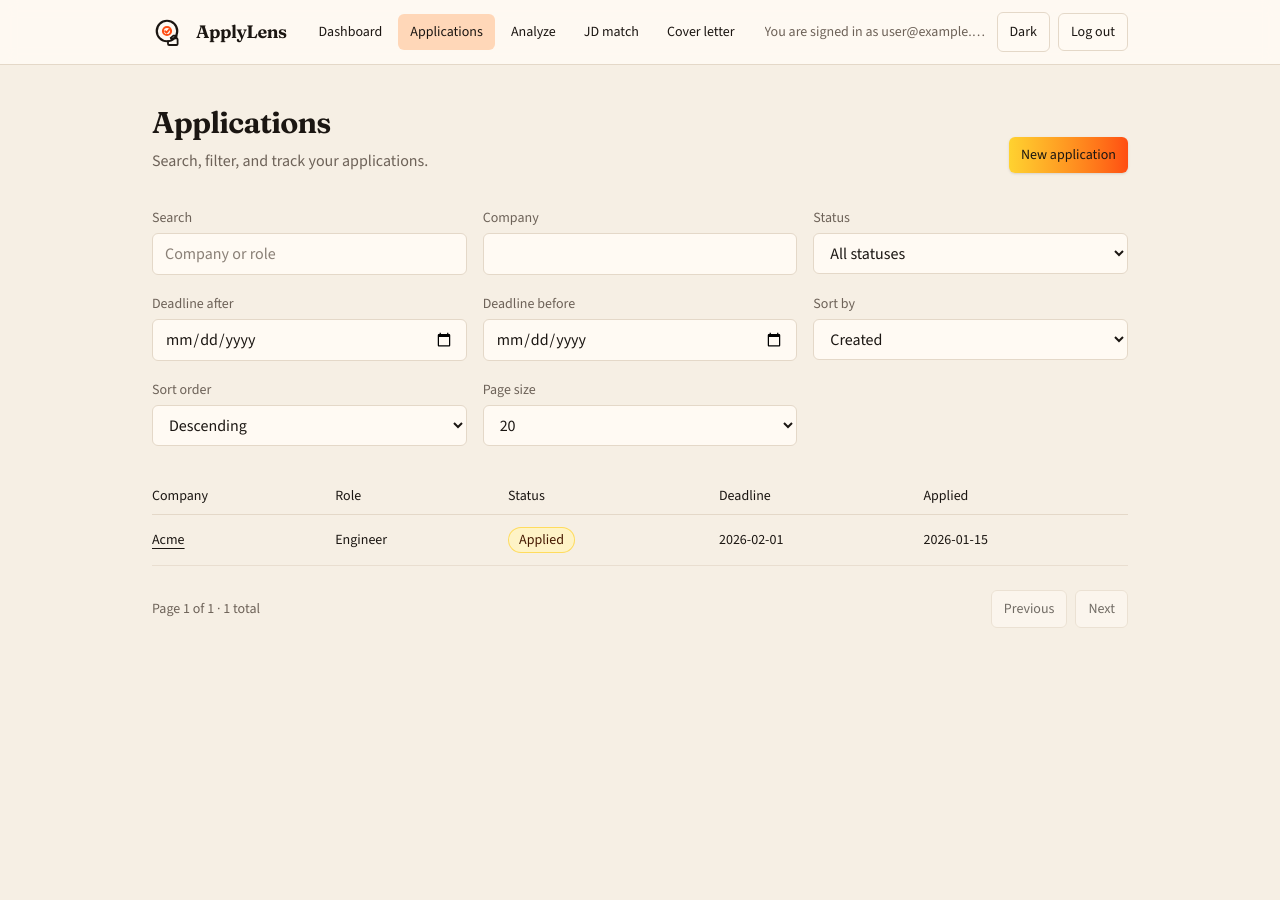
Test: applications list › shows a no-results state for an unmatched filter
The image size is (1280, 900).
expect the link "Acme" is shown: met, box 152,530 -> 185,549
Select "Rejected" in the dropdown labelled "Status" at (971, 254), box 813,233 -> 1128,274
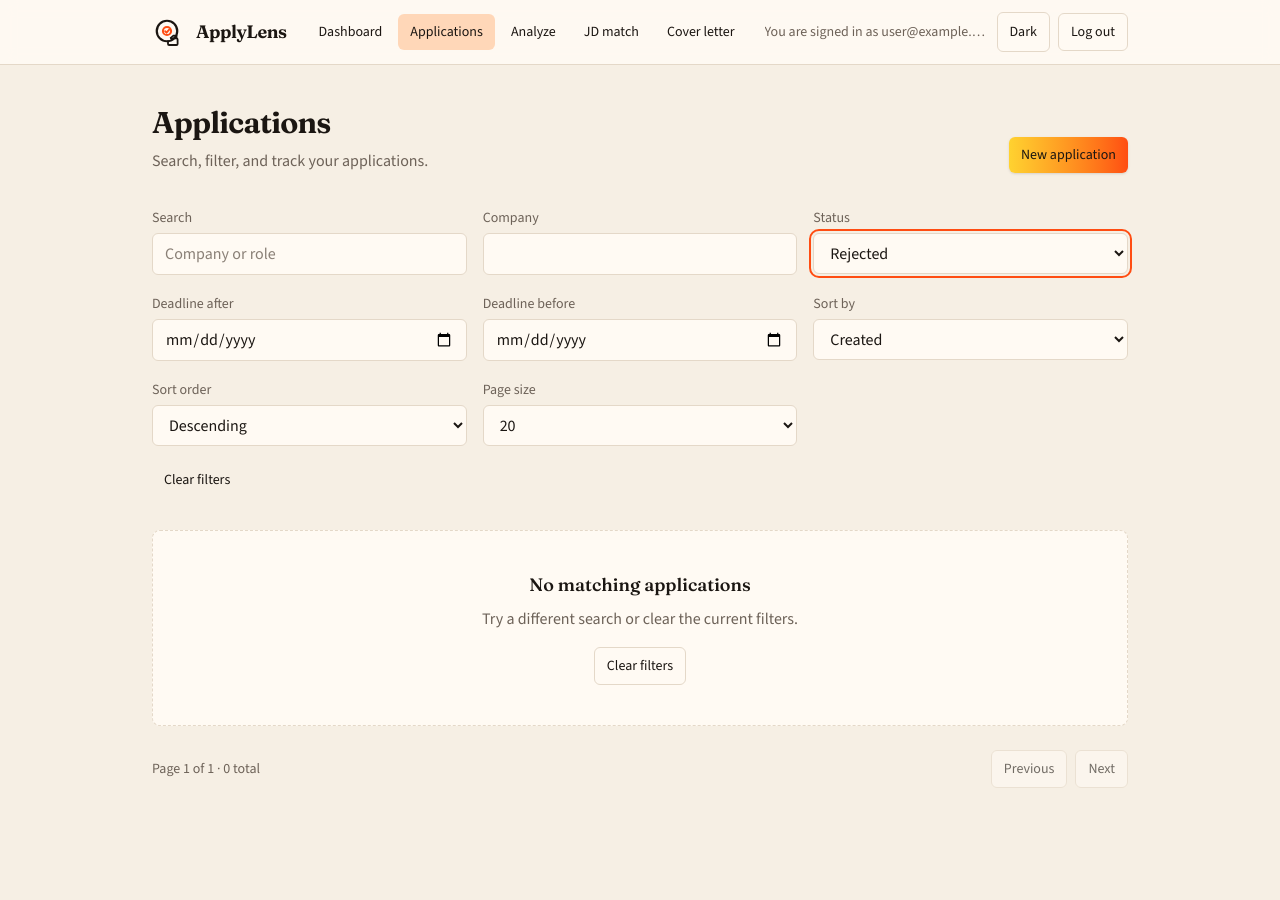
expect the heading "No matching applications" is shown: met, box 529,573 -> 751,596
